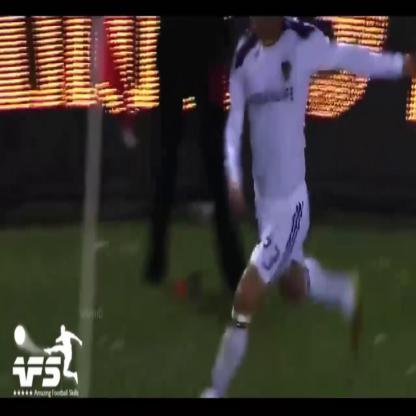corner kick: (73, 19, 268, 402)
